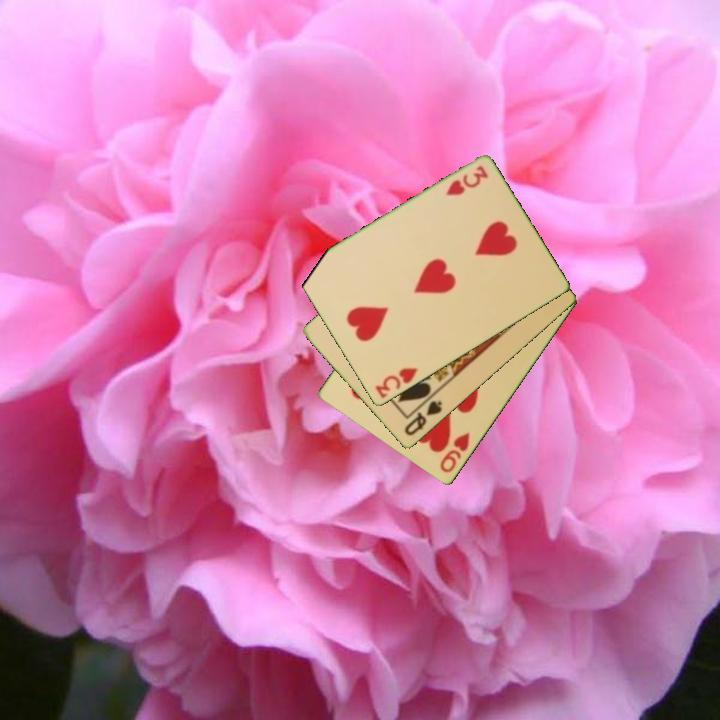3h: (371, 364, 421, 401), (443, 162, 491, 199)
9h: (436, 429, 473, 476)
Qs: (401, 397, 445, 439)
